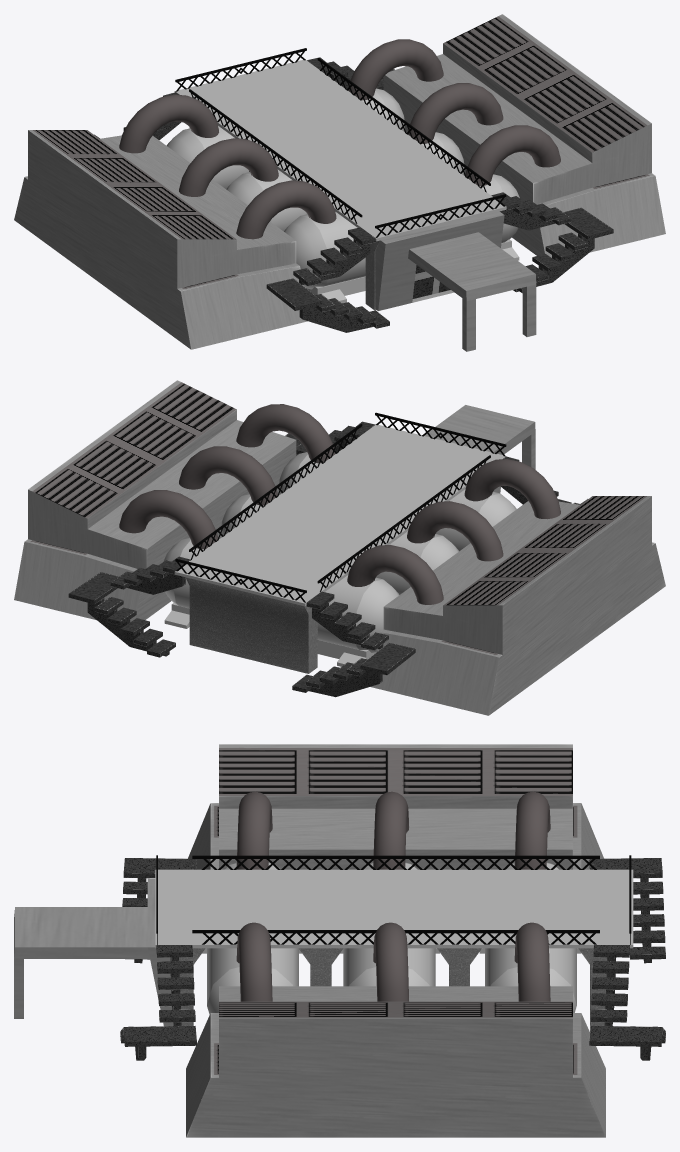
Rendered from SupplyDepot.FBX.
The picture shows the model from 3 angles, top to bottom: view 1: azimuth 30°, elevation 25°; view 2: azimuth 150°, elevation 25°; view 3: azimuth 270°, elevation 25°; orthographic projection. The views are drawn at different scales.
Visible parts, largest first — view 1: OxygenDepot; view 2: OxygenDepot; view 3: OxygenDepot.
Part boxes in pixels (x1,y1,x2,y2): OxygenDepot: (14, 14, 665, 351); OxygenDepot: (14, 380, 665, 715); OxygenDepot: (14, 744, 665, 1137).
Size of the model in its own units: 248 by 58.02 by 249.
